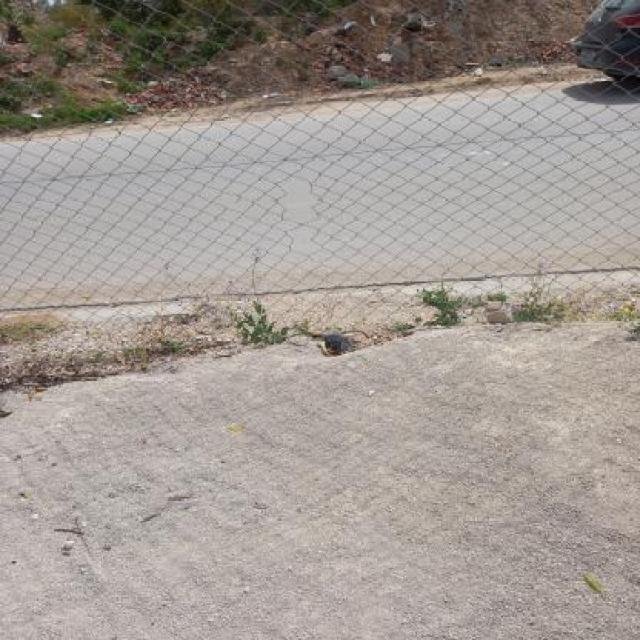fence line: (261, 179, 334, 279)
